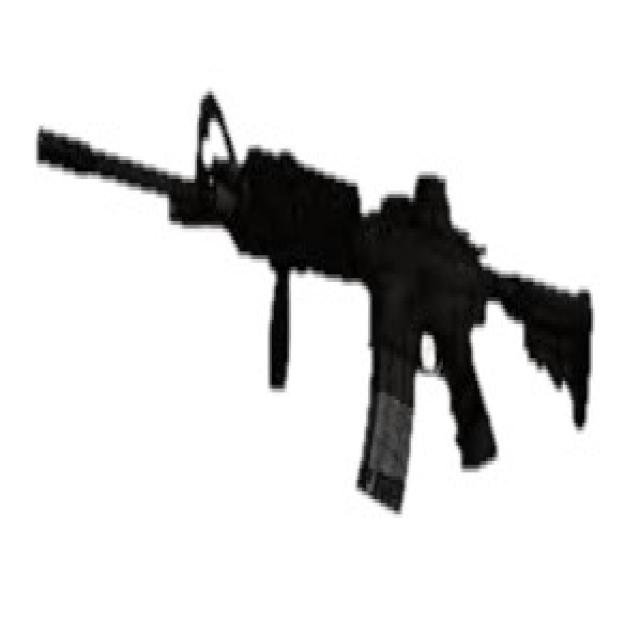rifle: (34, 79, 602, 541)
